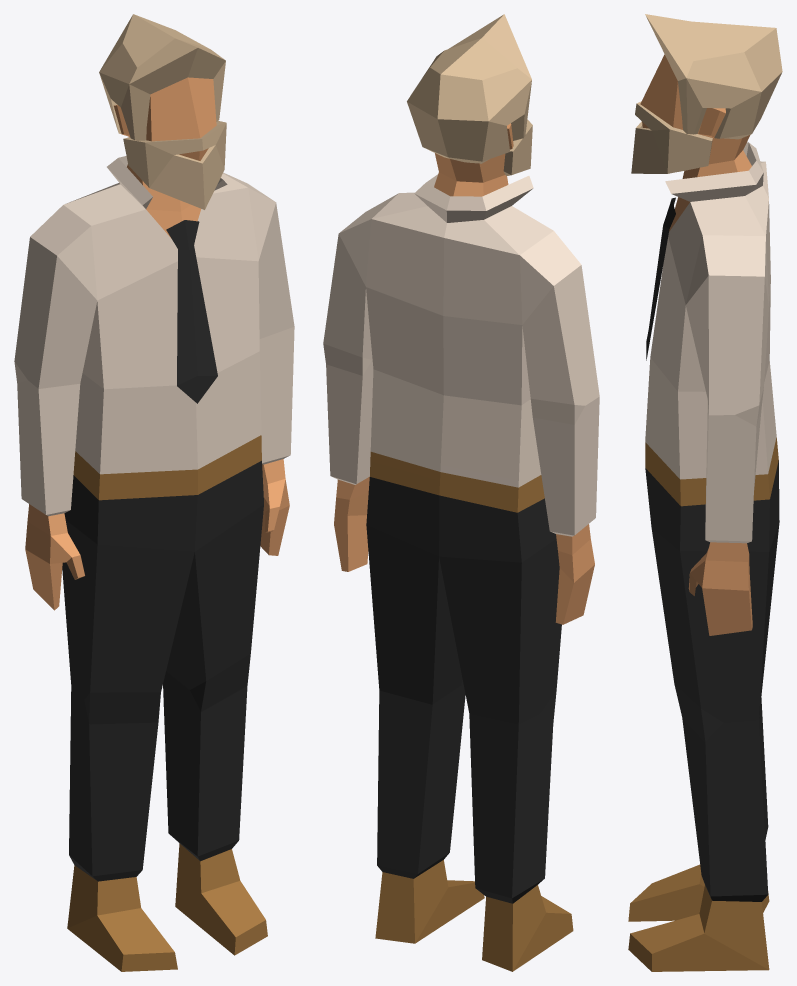
Rendered from man-tie.glb.
3 renders of one model, left to right at view 1: azimuth 30°, elevation 25°; view 2: azimuth 150°, elevation 25°; view 3: azimuth 270°, elevation 25°, orthographic. The views are drawn at different scales.
Parts seen in each view (by area): view 1: man-tie; view 2: man-tie; view 3: man-tie.
Boxes of the visible parts, box(x1,y1,x2,y2) form: man-tie: box(14, 14, 294, 971); man-tie: box(323, 14, 599, 971); man-tie: box(628, 14, 782, 971).
Bounding box in the file's own units: 0.5438 × 1.84 × 0.2797.
1 material, 1 textured.
